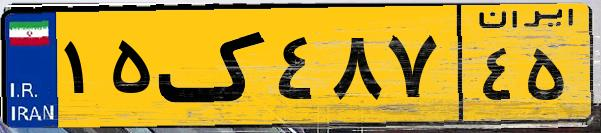1: (57, 26, 110, 100)
4: (270, 28, 330, 110), (475, 38, 525, 113)
5: (525, 38, 570, 115), (110, 28, 158, 98)
7: (385, 28, 445, 110)
8: (330, 28, 385, 110)
ک: (158, 12, 270, 120)
